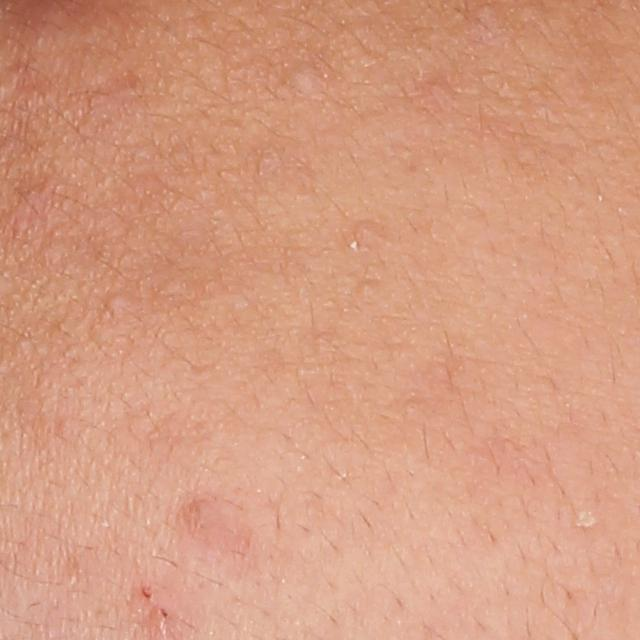comedo: (282, 62, 322, 96), (105, 293, 131, 313)
